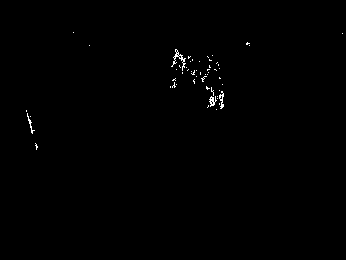person: (202, 52, 226, 110), (169, 47, 199, 92)
